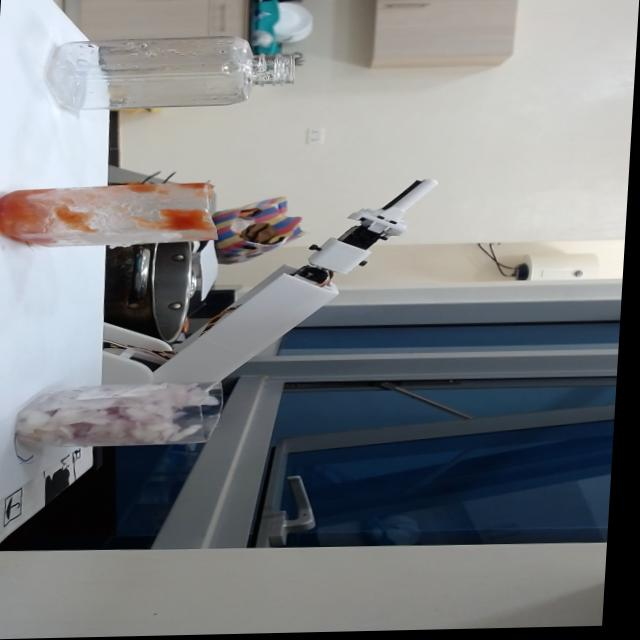blended_tomatoes_pepper: (0, 182, 206, 248)
cooking_pot: (102, 244, 196, 343)
sliced_onions: (9, 382, 207, 459)
